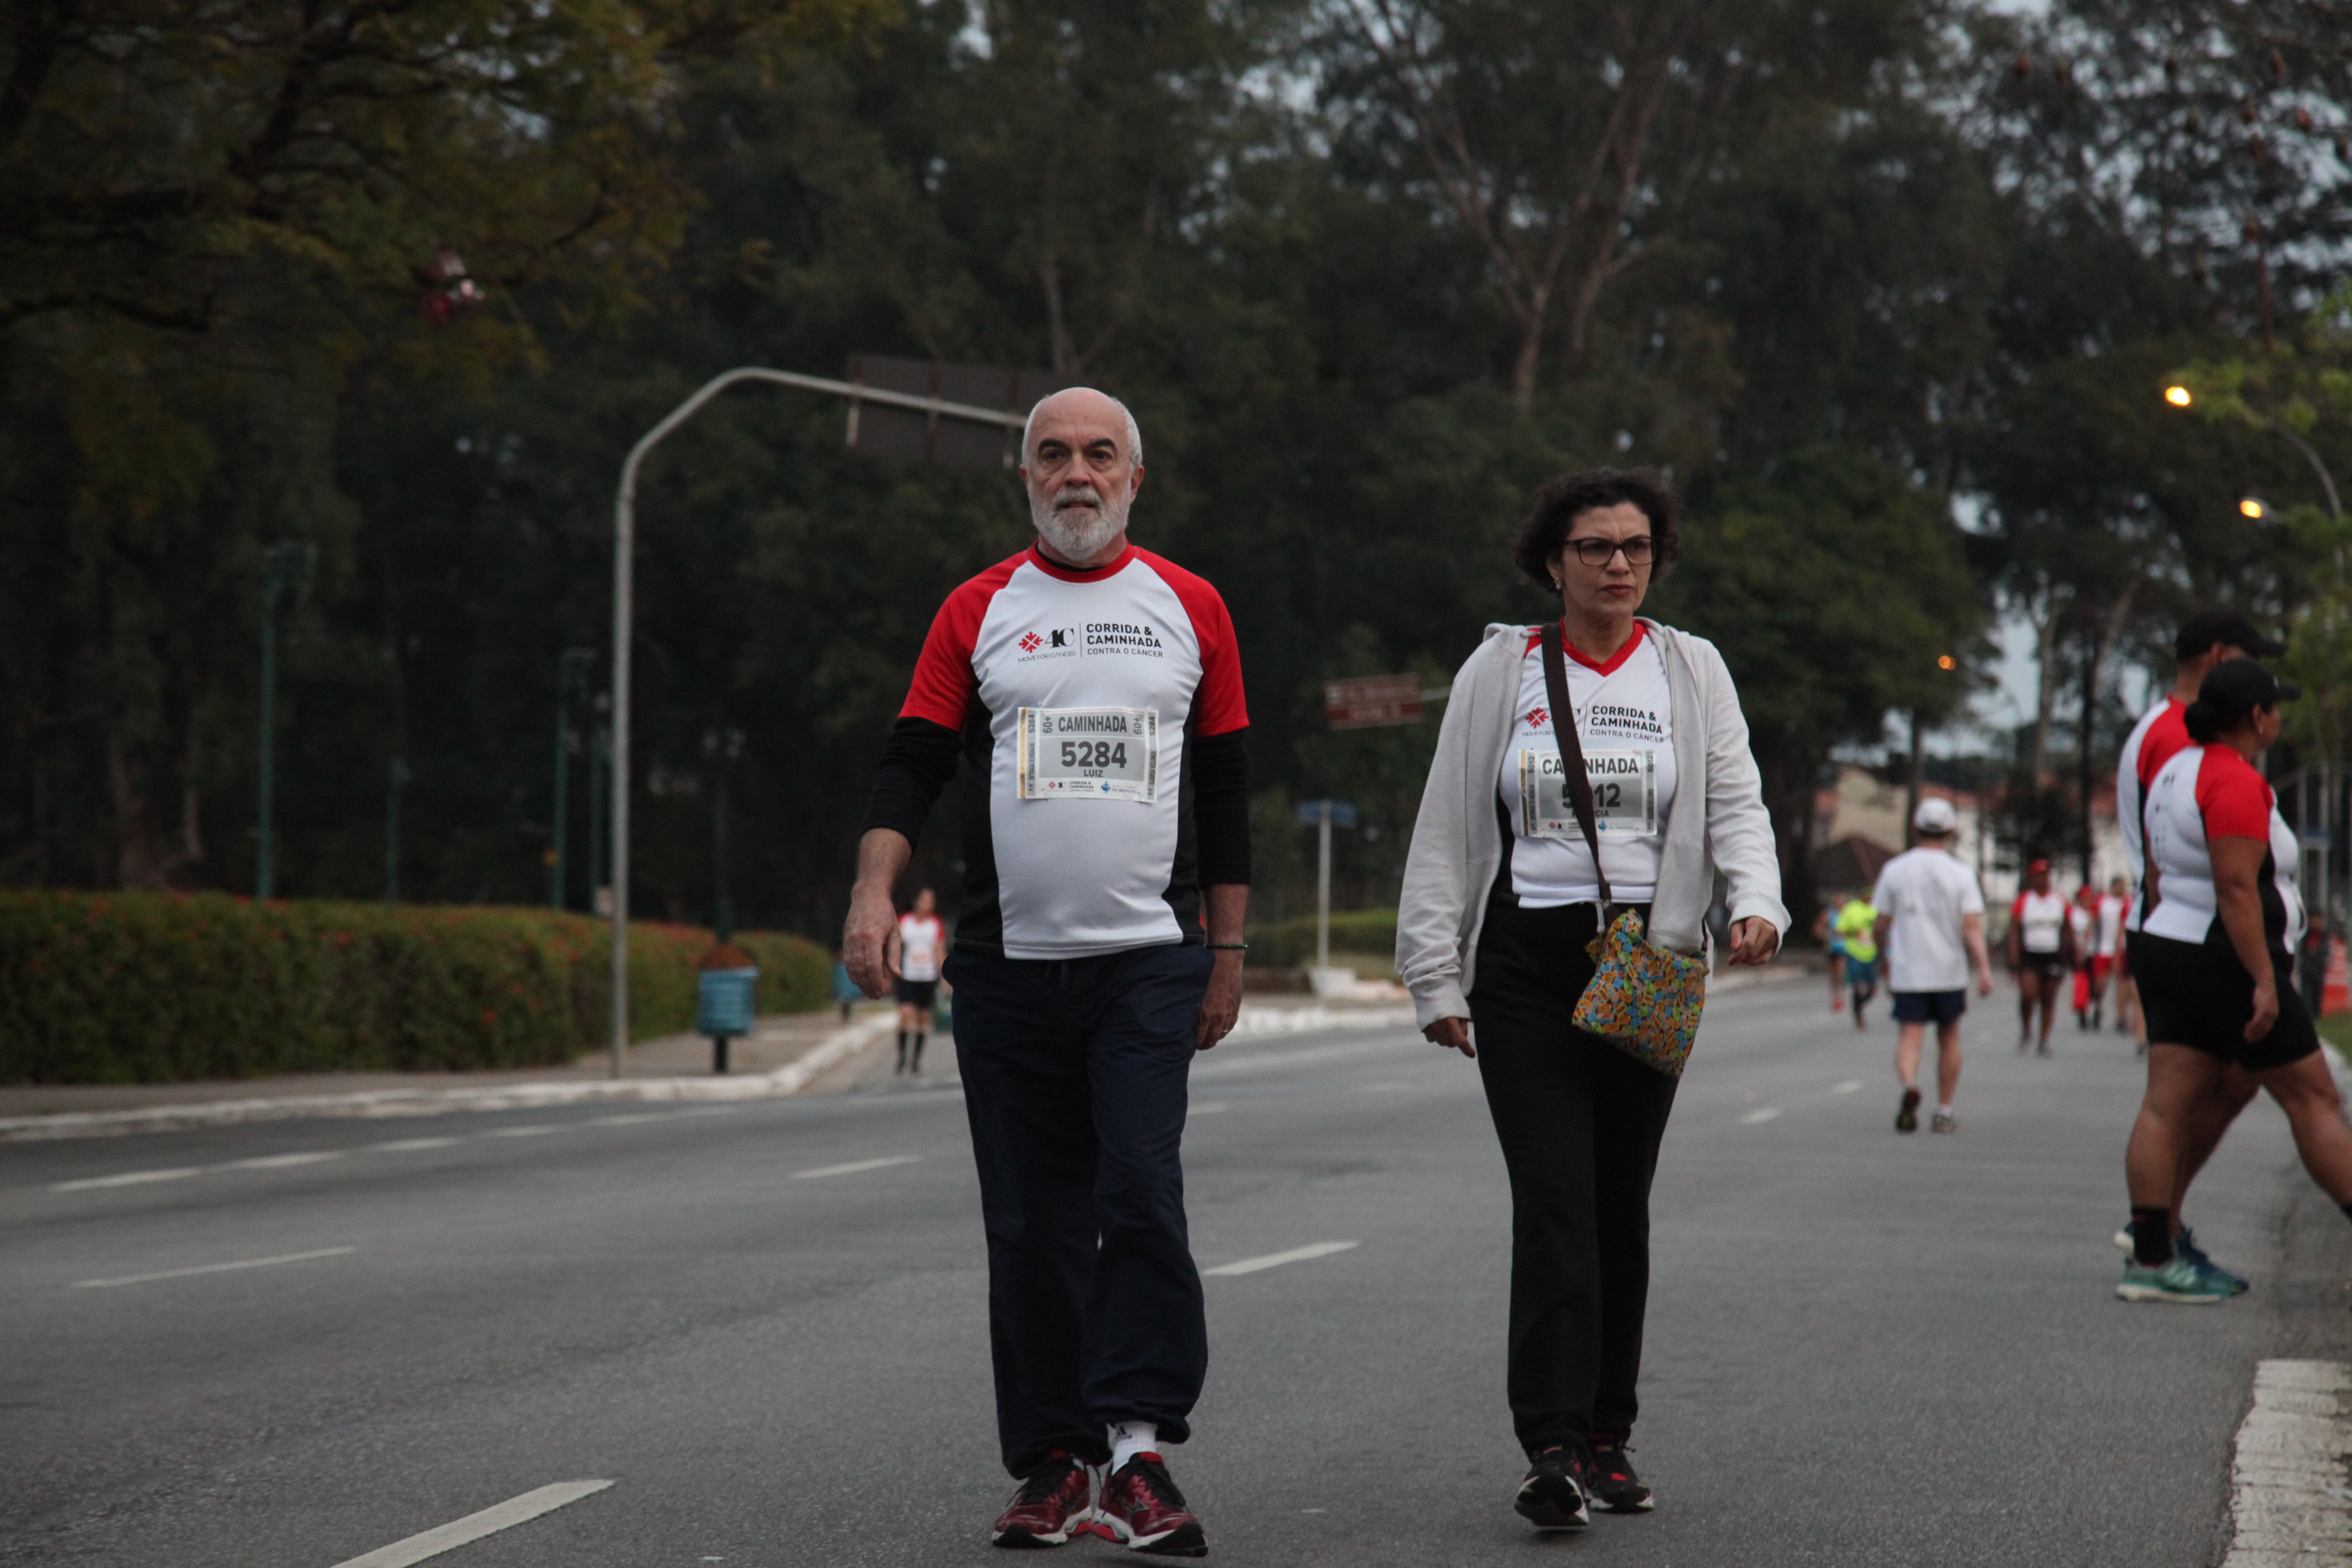bibtag: (1008, 705, 1167, 814), (1508, 747, 1661, 854)
